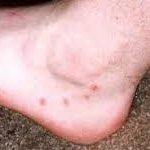Ants: (5, 10, 19, 18), (87, 81, 98, 91), (38, 97, 45, 105), (62, 97, 69, 105), (83, 94, 90, 101)
